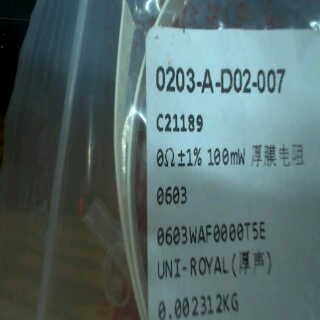0R: (155, 142, 246, 204)
